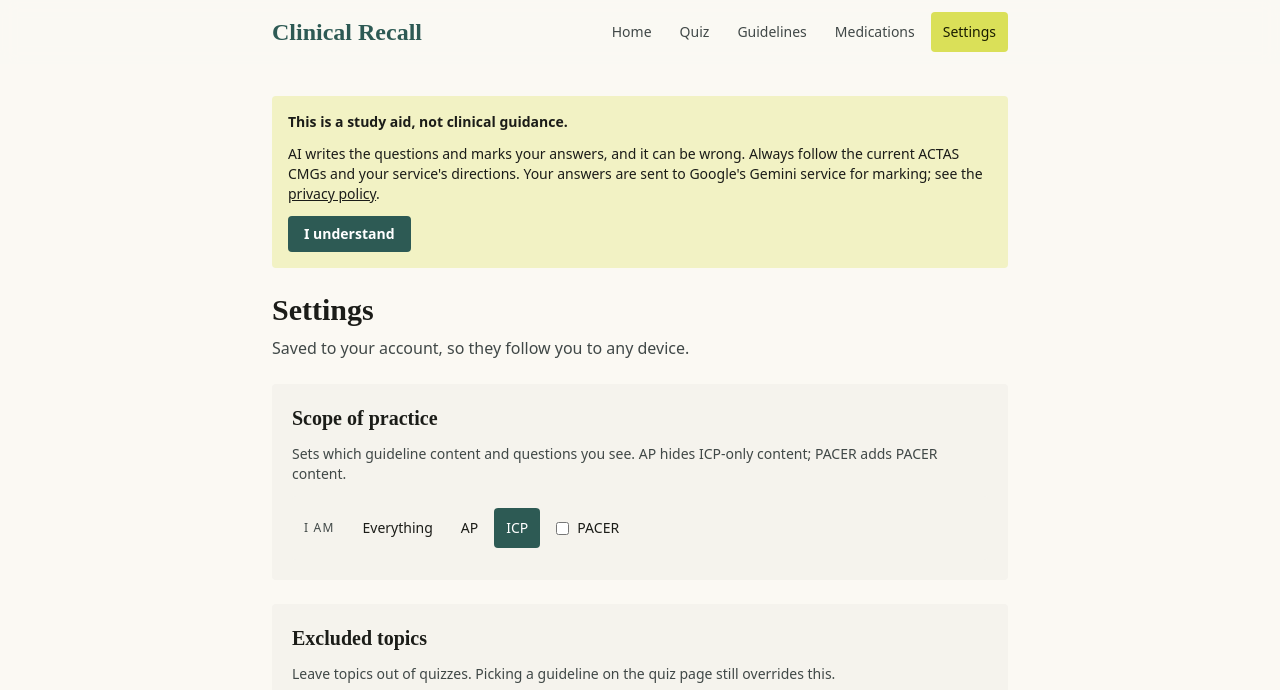
Test: settings sync › saves a signed-in user's qualification and exclusions and uses them in quizzes
Click the radio button labelled "AP" at (470, 528), box [449,508,490,548]
(page scrolled)
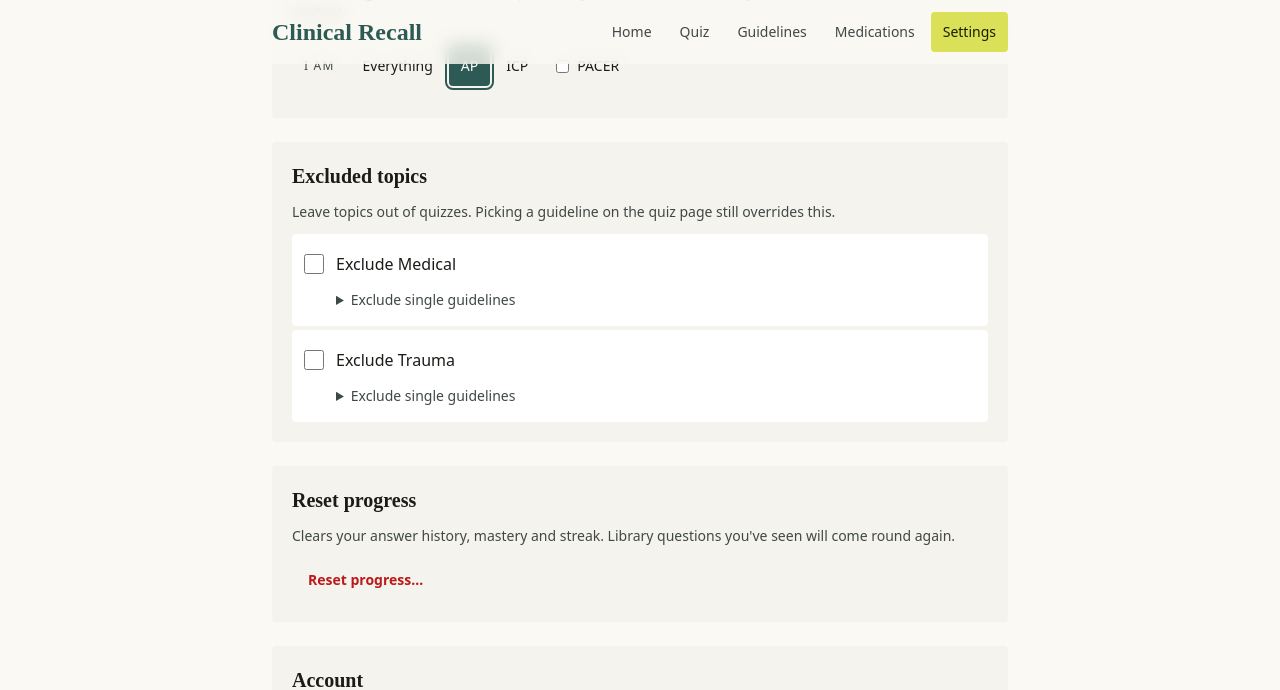
Click the checkbox labelled "Exclude Trauma" at (314, 360), box [304,350,324,370]
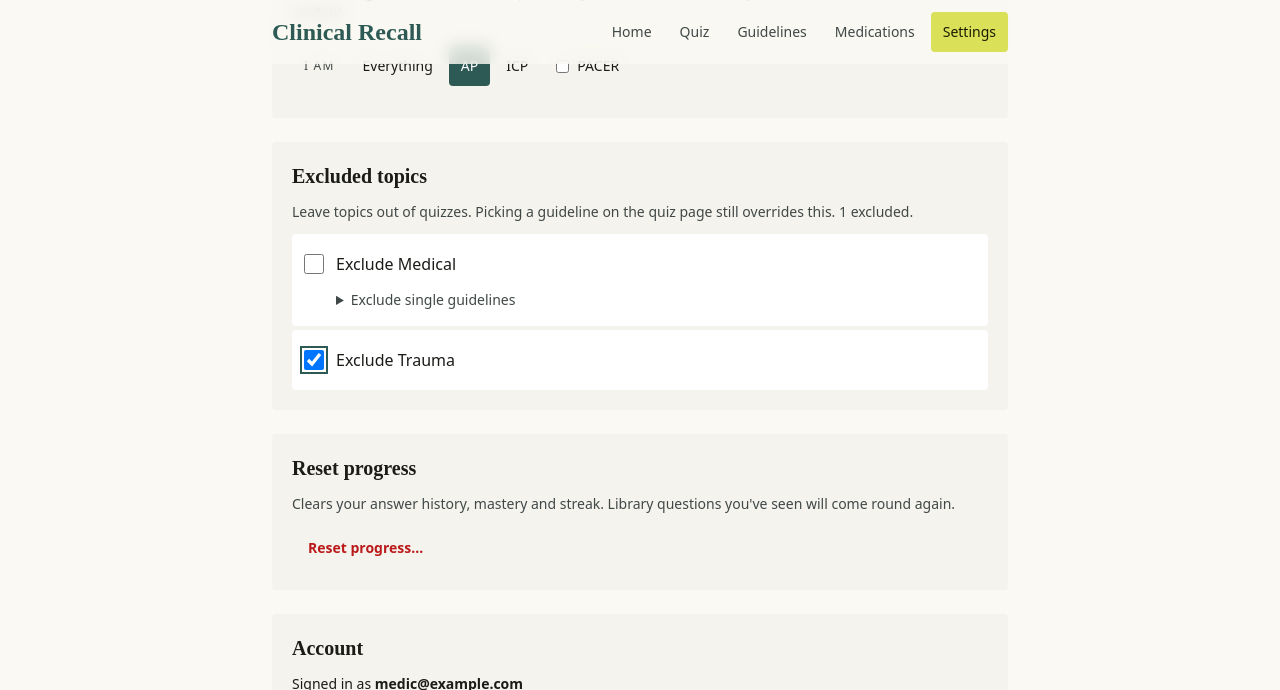
Click the link "Quiz" at (694, 32), box [680,22,709,41]
(page scrolled)
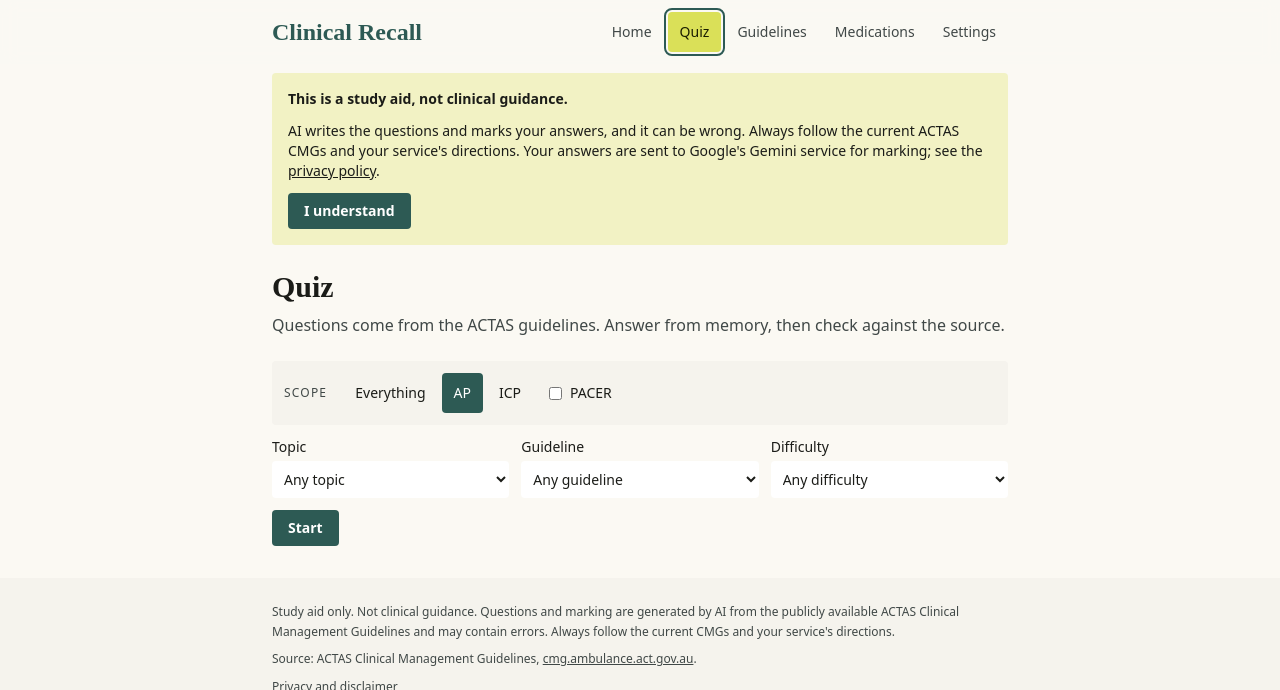
Click the button "Start" at (305, 528), box [272,510,339,546]
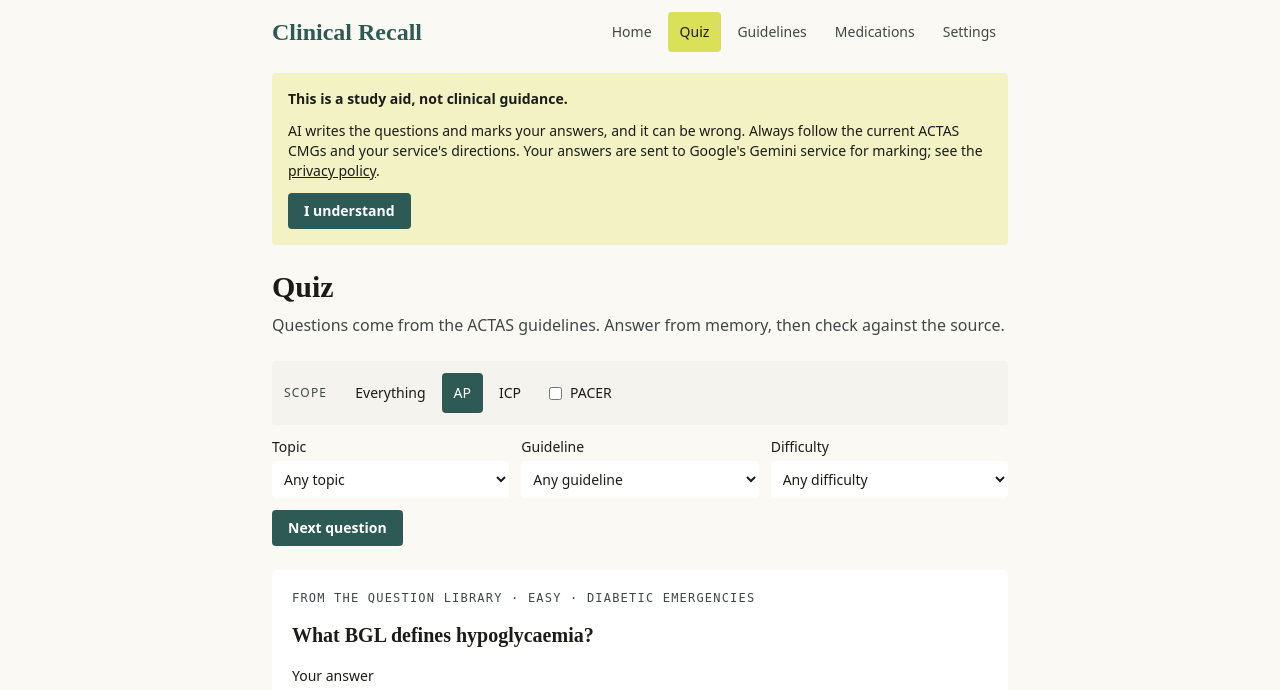
Check: the heading "What BGL defines hypoglycaemia?" is shown, box [292,624,594,646]
